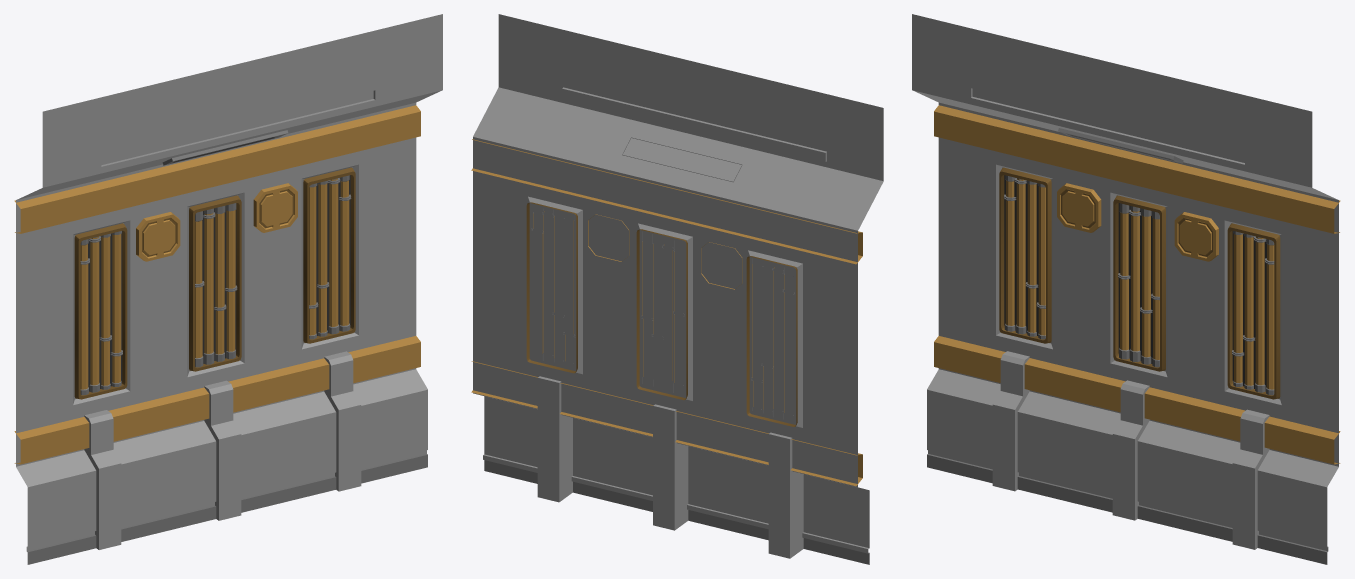
Rendered from Wall_2.fbx.
3 views of the same model, side by side, from view 1: azimuth 30°, elevation 25°; view 2: azimuth 150°, elevation 25°; view 3: azimuth 330°, elevation 25° (orthographic). The views are drawn at different scales.
Visible parts, largest first — view 1: Wall_2; view 2: Wall_2; view 3: Wall_2.
Boxes of the visible parts, x1,y1,x2,y2 form: Wall_2: (14, 14, 442, 564); Wall_2: (471, 14, 883, 564); Wall_2: (912, 14, 1340, 564).
Size of the model in its own units: 400 by 443 by 53.34.
